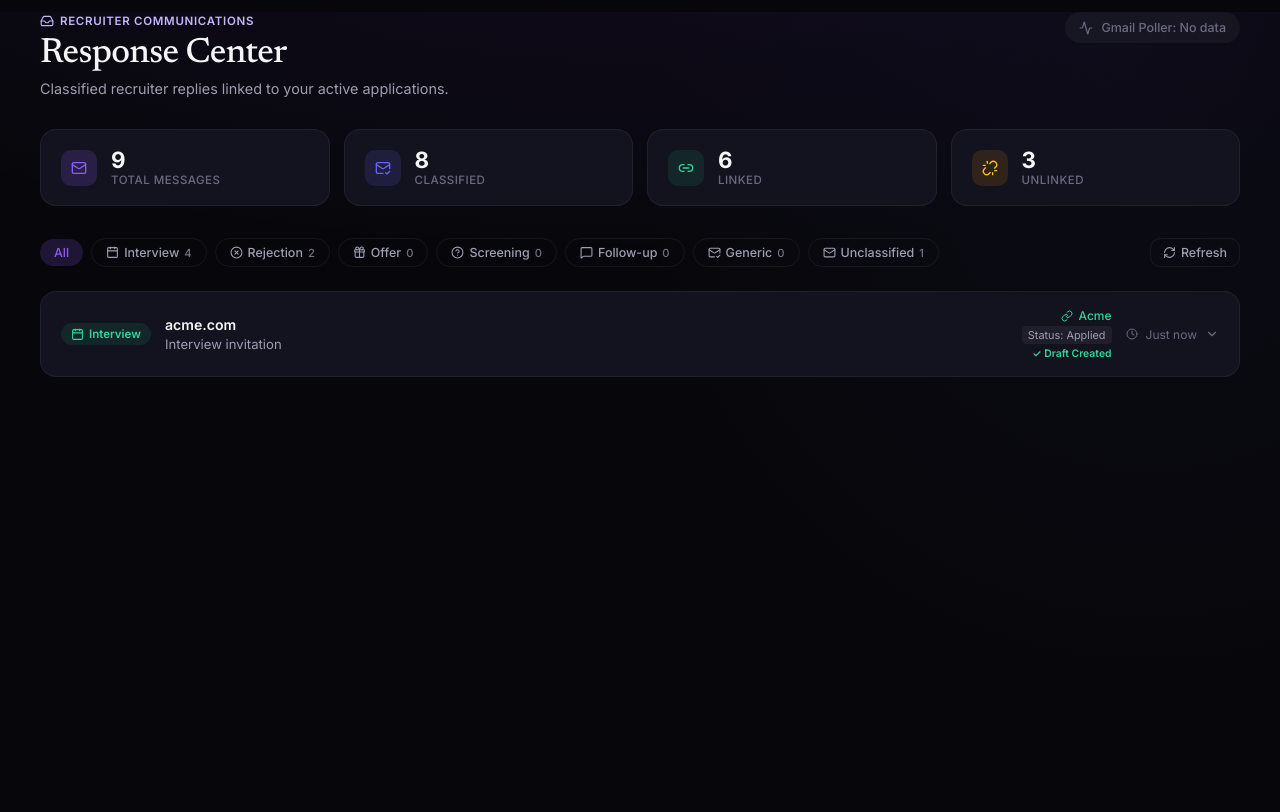
Test: ResponseCenterPlaceholder › shows the draft-ready state (no approval button) for an already-approved message
Click the text "acme.com" at (201, 325), box 165,316 -> 236,333
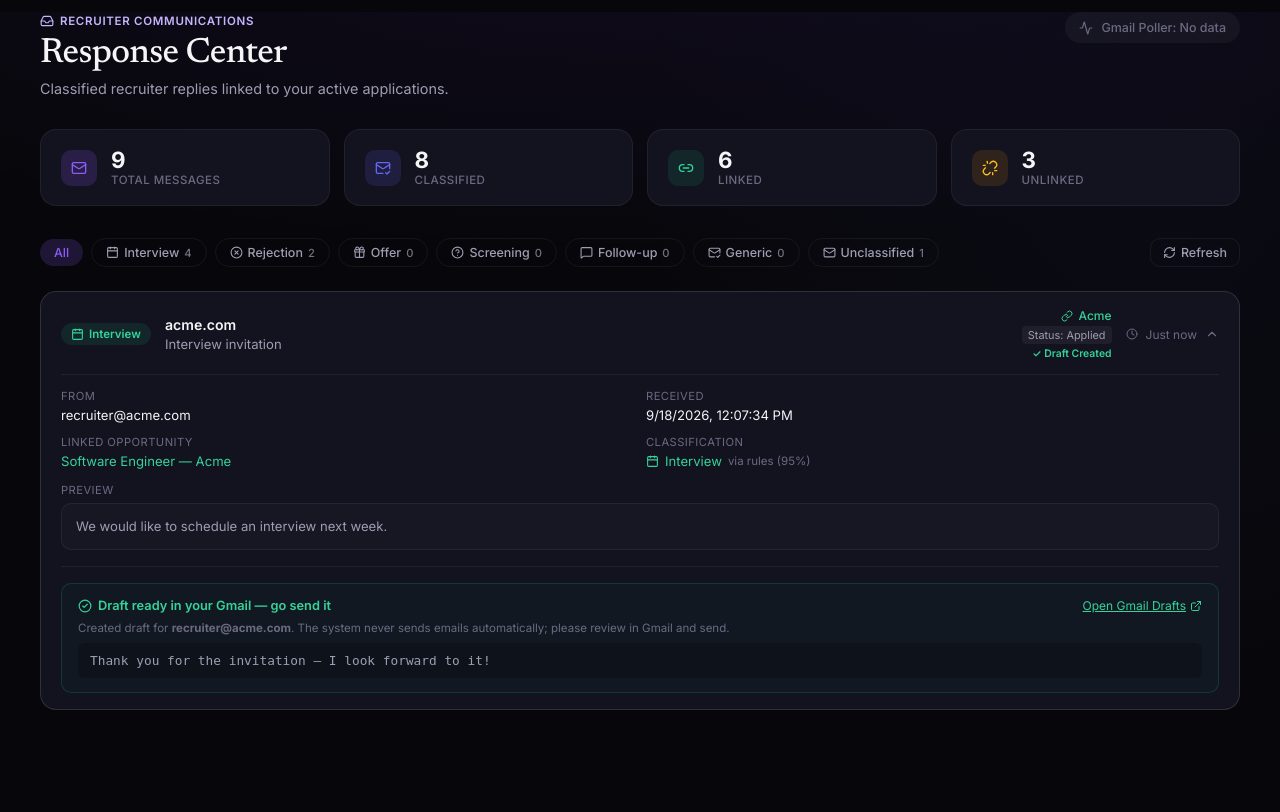
Now the text "Draft ready in your Gmail — go send it" is shown, box 78,598 -> 331,613
Now the text "The system never sends emails automatically" is shown, box 291,621 -> 730,635
